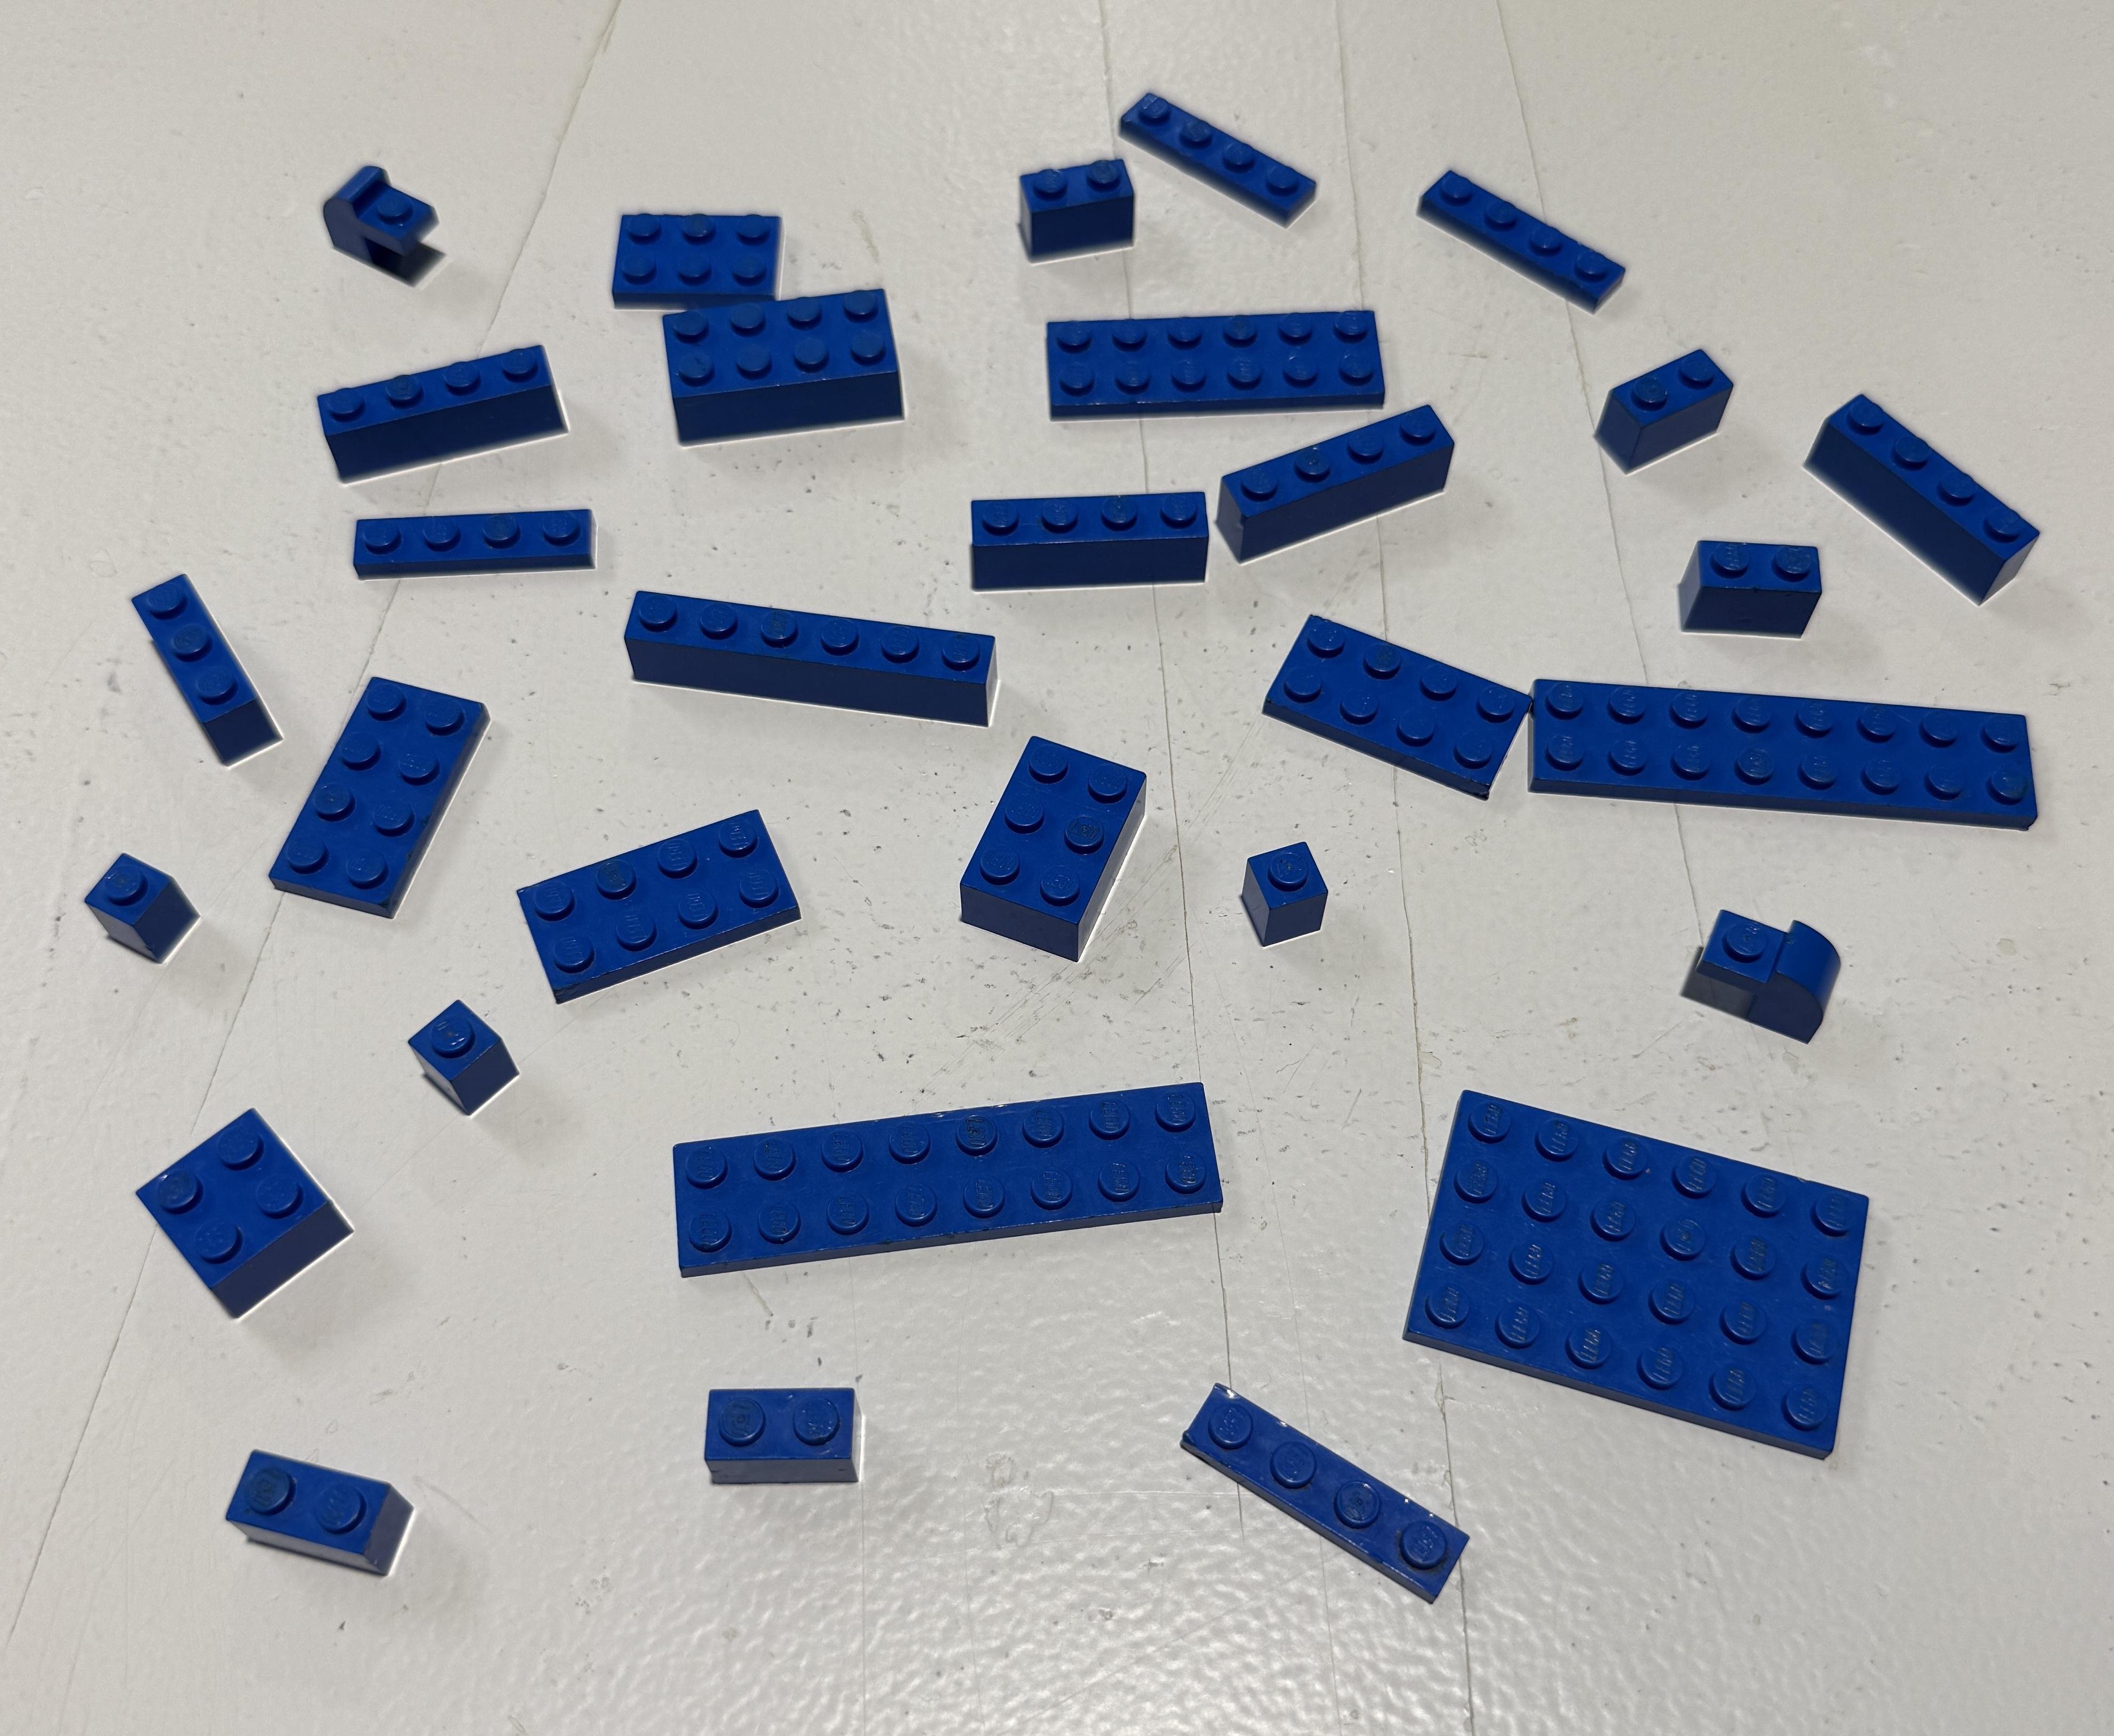brick_1x1: (68, 829, 237, 985), (393, 978, 539, 1139), (1227, 816, 1350, 962)
brick_1x2: (660, 1343, 902, 1524), (202, 1429, 449, 1596), (1650, 513, 1865, 667), (1582, 323, 1745, 491), (1001, 126, 1155, 286)
brick_1x3: (107, 525, 298, 788)
brick_1x4: (1794, 365, 2053, 621), (1194, 388, 1466, 597), (932, 467, 1226, 609)
brick_2x2: (118, 1090, 365, 1327)
brick_2x3: (929, 713, 1180, 990)
brick_2x4: (639, 270, 918, 458)
